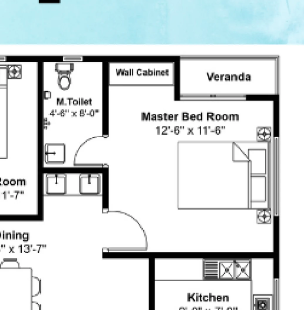door: (92, 203, 153, 252), (69, 131, 111, 167)
window: (270, 131, 283, 219), (60, 51, 87, 64)
